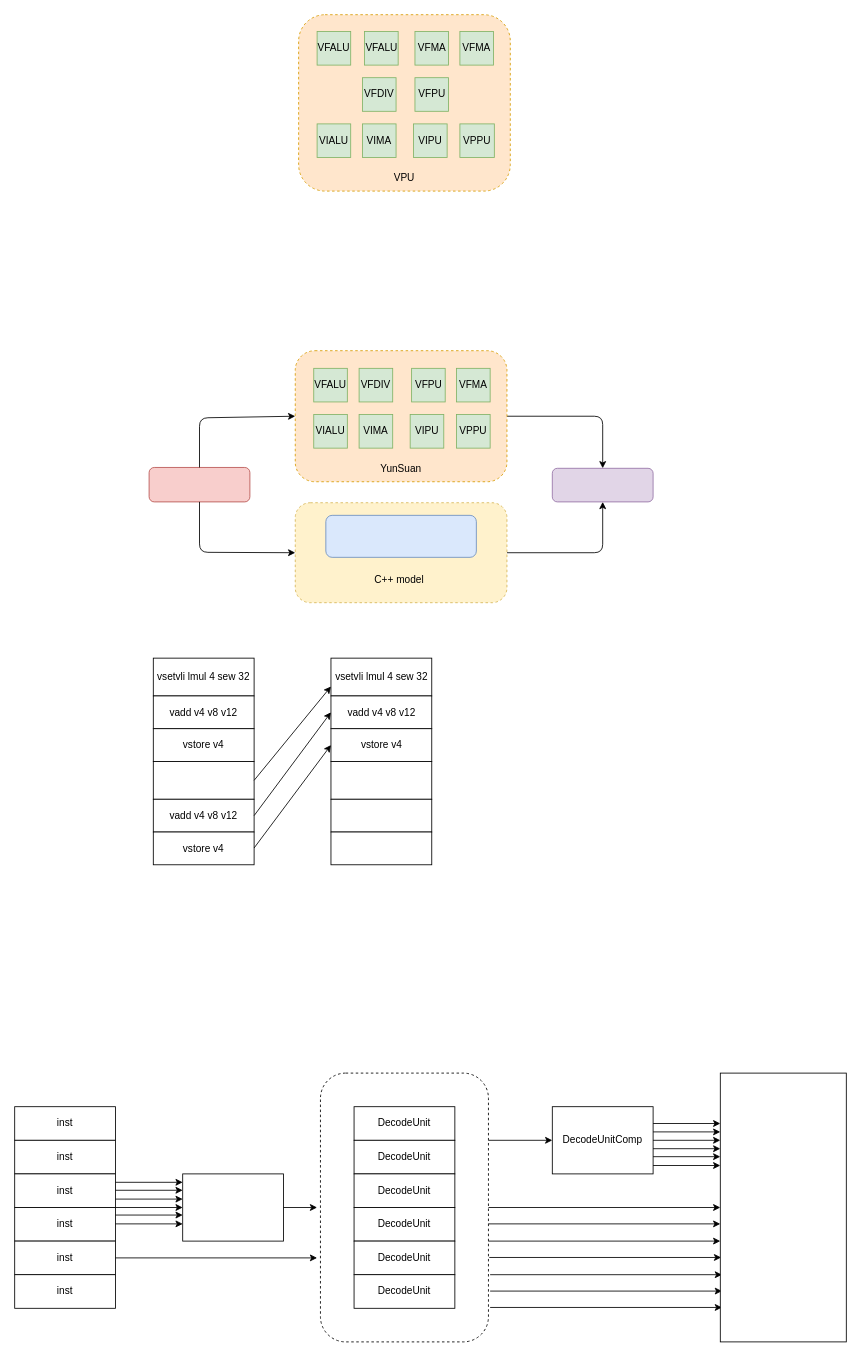
Image size: 861x1357. Some labels were removed from this diagram. The centre of each missing label's shape, as x and y in pixels:
"compare result" goes at point (602, 484).
"compute expected result" goes at point (400, 535).
"random data" goes at point (199, 484).
"rename" goes at point (782, 1207).
"vsetvli lmul 2 sew 16" goes at point (203, 780).
"vtypegen" goes at point (233, 1207).
